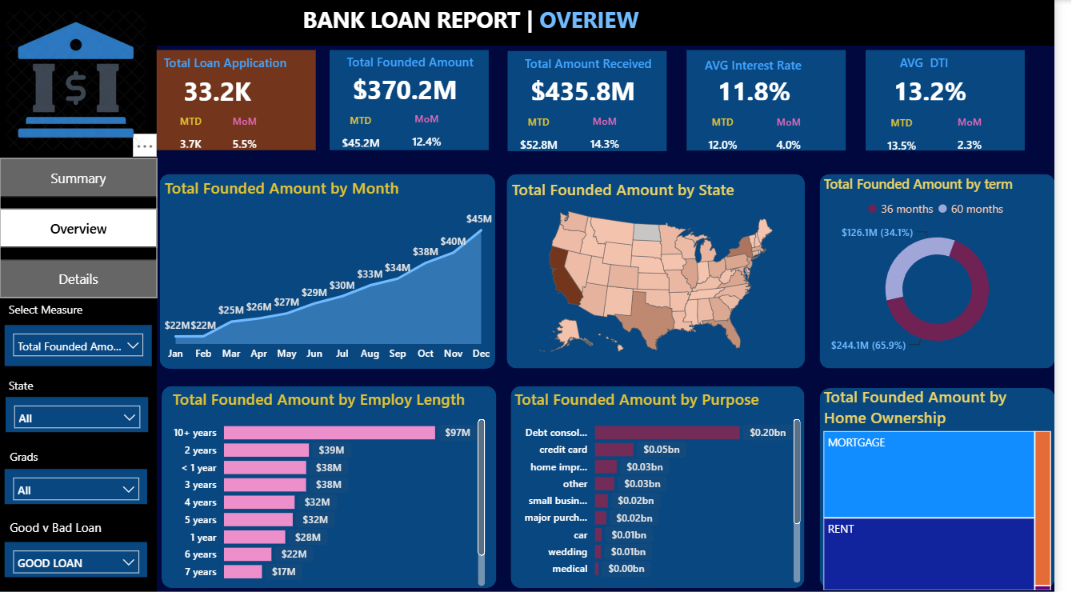

This screenshot's page, from the dashboard's own definition file:
{"tool":"powerbi","page":{"name":"Overview","canvas":[1280,720],"ordinal":1},"visuals":[{"type":"shape","box":[0,0,1279.7,55],"z":0},{"type":"shape","box":[5.3,56,192,664],"z":1000},{"type":"textbox","box":[367.8,0,436.4,45.3],"z":2000},{"type":"shape","box":[196.4,60.5,192,121],"z":3000},{"type":"cardVisual","fields":{"Data":["financial_loan.Total Loan Application"]},"box":[200,76,168,64],"z":4000},{"type":"textbox","box":[200.3,60.3,184,32],"z":5000},{"type":"cardVisual","title":"MTD","fields":{"Data":["financial_loan.MTD  Loan Application"]},"box":[190.7,137.9,94.7,58.7],"z":6000},{"type":"cardVisual","title":"MoM","fields":{"Data":["financial_loan.MoM loan application"]},"box":[256.3,137.6,94.7,58.7],"z":7000},{"type":"shape","box":[404.8,59.9,192,121],"z":8000},{"type":"cardVisual","fields":{"Data":["financial_loan.Total Founded Amount"]},"box":[404,76,193.3,61.3],"z":9000},{"type":"textbox","box":[420.5,59.5,184,32],"z":10000},{"type":"cardVisual","title":"MTD","fields":{"Data":["financial_loan.MTD  Founded Amount"]},"box":[391.2,136.8,104,58.7],"z":11000},{"type":"cardVisual","title":"MoM","fields":{"Data":["financial_loan.MoM Founded amount"]},"box":[475.2,135.5,94.7,58.7],"z":12000},{"type":"shape","box":[619.6,61.3,192,121],"z":13000},{"type":"cardVisual","fields":{"Data":["financial_loan.Total Amount Reseived"]},"box":[618.7,77.3,193.3,61.3],"z":14000},{"type":"textbox","box":[635.3,60.9,184,32],"z":15000},{"type":"cardVisual","title":"MTD","fields":{"Data":["financial_loan.MTD  Reseived  Amount"]},"box":[606,138.3,104,58.7],"z":16000},{"type":"cardVisual","title":"MoM","fields":{"Data":["financial_loan.MoM Reseived Amount"]},"box":[690,136.9,94.7,58.7],"z":17000},{"type":"shape","box":[836.5,60.3,192,121.3],"z":18000},{"type":"cardVisual","fields":{"Data":["financial_loan.AVG interest rate"]},"box":[844,77.3,184,61.3],"z":19000},{"type":"textbox","box":[853.3,62.7,184,32],"z":20000},{"type":"cardVisual","title":"MTD","fields":{"Data":["financial_loan.MTD  avg interest rate"]},"box":[828,138.7,104,58.7],"z":21000},{"type":"cardVisual","title":"MoM","fields":{"Data":["financial_loan.MoM avg interest rate"]},"box":[912,138.7,94.7,58.7],"z":22000},{"type":"shape","box":[1052,60.8,192,121.3],"z":23000},{"type":"shape","box":[200,209.3,405,235],"z":24000},{"type":"cardVisual","fields":{"Data":["financial_loan.AVG  DTI"]},"box":[1057.3,77.3,180,61.3],"z":25000},{"type":"textbox","box":[1076,60,184,32],"z":26000},{"type":"cardVisual","title":"MTD","fields":{"Data":["financial_loan.MTD  avg dti"]},"box":[1044,140,104,58.7],"z":27000},{"type":"cardVisual","title":"MoM","fields":{"Data":["financial_loan.MoM avg dti"]},"box":[1130.7,138.7,94.7,58.7],"z":28000},{"type":"slicer","fields":{"Values":["financial_loan.address_state"]},"box":[14.4,478.7,172,42.7],"z":29000},{"type":"textbox","box":[13.1,450.7,65.3,28],"z":30000},{"type":"slicer","fields":{"Values":["financial_loan.grade"]},"box":[13.1,565.3,172,42.7],"z":31000},{"type":"textbox","box":[14.4,537.3,65.3,28],"z":32000},{"type":"slicer","fields":{"Values":["financial_loan.Good v Bad"]},"box":[13.1,653.3,172,42.7],"z":33000},{"type":"textbox","box":[14.4,621.3,149.3,32],"z":34000},{"type":"areaChart","fields":{"Y":["financial_loan.Total Founded Amount"],"Category":["Date Table.Month"]},"box":[201.3,213.3,405.3,230.7],"z":35000},{"type":"slicer","fields":{"Values":["Select Measure.Select Measure"]},"box":[13.1,392,177.3,49.3],"z":36000},{"type":"textbox","box":[13.1,360,130.7,32],"z":37000},{"type":"shape","box":[618.7,209.3,360,234.7],"z":37001},{"type":"shapeMap","fields":{"Category":["financial_loan.address_state"],"Value":["financial_loan.Total Founded Amount"]},"box":[620,216,358.7,222.7],"z":37002},{"type":"shape","box":[996,209.3,284,234.7],"z":37003},{"type":"donutChart","fields":{"Category":["financial_loan.term"],"Y":["financial_loan.Total Founded Amount"]},"box":[996,209.3,284,226.7],"z":37004},{"type":"shape","box":[202.7,465.3,404,244],"z":37005},{"type":"barChart","fields":{"Category":["financial_loan.emp_length"],"Y":["financial_loan.Total Founded Amount"]},"box":[210.7,468,386.7,244],"z":37006},{"type":"shape","box":[624,465.3,354.7,244],"z":37007},{"type":"barChart","fields":{"Category":["financial_loan.purpose"],"Y":["financial_loan.Total Founded Amount"]},"box":[624,468,354.7,240],"z":37008},{"type":"shape","box":[996,468,284,241.3],"z":37009},{"type":"treemap","fields":{"Group":["financial_loan.home_ownership"],"Values":["financial_loan.Total Founded Amount"]},"box":[996,465.3,284,252],"z":37010},{"type":"pageNavigator","box":[6.7,190.7,190.7,169.3],"z":37011},{"type":"image","box":[13.3,0,172,192],"z":37012}]}

Visuals, with their boxes on the page's 1280x720 design canvas (x1, y1, x2, y2). These are canvas units, not pixel positions in the 1072x592 screenshot, which may show the page scaled, cropped or inside an application window:
shape: 0/0/1280/55
shape: 5/56/197/720
textbox: 368/0/804/45
shape: 196/60/388/182
cardVisual - financial_loan.Total Loan Application: 200/76/368/140
textbox: 200/60/384/92
"MTD" cardVisual: 191/138/285/197
"MoM" cardVisual: 256/138/351/196
shape: 405/60/597/181
cardVisual - financial_loan.Total Founded Amount: 404/76/597/137
textbox: 420/60/604/92
"MTD" cardVisual: 391/137/495/196
"MoM" cardVisual: 475/136/570/194
shape: 620/61/812/182
cardVisual - financial_loan.Total Amount Reseived: 619/77/812/139
textbox: 635/61/819/93
"MTD" cardVisual: 606/138/710/197
"MoM" cardVisual: 690/137/785/196
shape: 836/60/1028/182
cardVisual - financial_loan.AVG interest rate: 844/77/1028/139
textbox: 853/63/1037/95
"MTD" cardVisual: 828/139/932/197
"MoM" cardVisual: 912/139/1007/197
shape: 1052/61/1244/182
shape: 200/209/605/444
cardVisual - financial_loan.AVG  DTI: 1057/77/1237/139
textbox: 1076/60/1260/92
"MTD" cardVisual: 1044/140/1148/199
"MoM" cardVisual: 1131/139/1225/197
slicer - financial_loan.address_state: 14/479/186/521
textbox: 13/451/78/479
slicer - financial_loan.grade: 13/565/185/608
textbox: 14/537/80/565
slicer - financial_loan.Good v Bad: 13/653/185/696
textbox: 14/621/164/653
areaChart - financial_loan.Total Founded Amount x Date Table.Month: 201/213/607/444
slicer - Select Measure.Select Measure: 13/392/190/441
textbox: 13/360/144/392
shape: 619/209/979/444
shapeMap - financial_loan.address_state x financial_loan.Total Founded Amount: 620/216/979/439
shape: 996/209/1280/444
donutChart - financial_loan.term x financial_loan.Total Founded Amount: 996/209/1280/436
shape: 203/465/607/709
barChart - financial_loan.emp_length x financial_loan.Total Founded Amount: 211/468/597/712
shape: 624/465/979/709
barChart - financial_loan.purpose x financial_loan.Total Founded Amount: 624/468/979/708
shape: 996/468/1280/709
treemap - financial_loan.home_ownership x financial_loan.Total Founded Amount: 996/465/1280/717
pageNavigator: 7/191/197/360
image: 13/0/185/192
